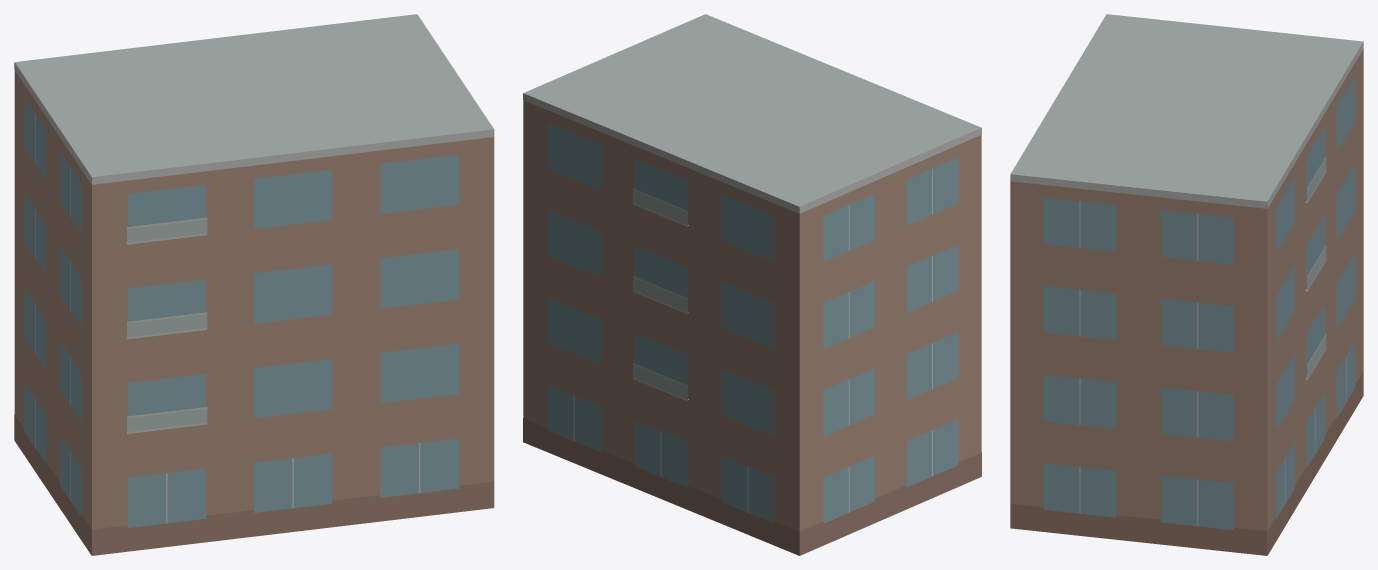
The model's file is residential-b606a326-16af-403d-9750-d224465358df.glb.
The picture shows the model from 3 angles, left to right: view 1: azimuth 30°, elevation 25°; view 2: azimuth 150°, elevation 25°; view 3: azimuth 270°, elevation 25°; orthographic projection. The views are drawn at different scales.
Parts seen in each view (by area): view 1: residential-b606a326-16af-403d-9750-d224465358df.tmp; view 2: residential-b606a326-16af-403d-9750-d224465358df.tmp; view 3: residential-b606a326-16af-403d-9750-d224465358df.tmp.
Part boxes in pixels (x1,y1,x2,y2): residential-b606a326-16af-403d-9750-d224465358df.tmp: [14, 14, 494, 555]; residential-b606a326-16af-403d-9750-d224465358df.tmp: [523, 14, 981, 555]; residential-b606a326-16af-403d-9750-d224465358df.tmp: [1010, 14, 1363, 555].
Bounding box in the file's own units: 13.89 × 12.2 × 11.04.
